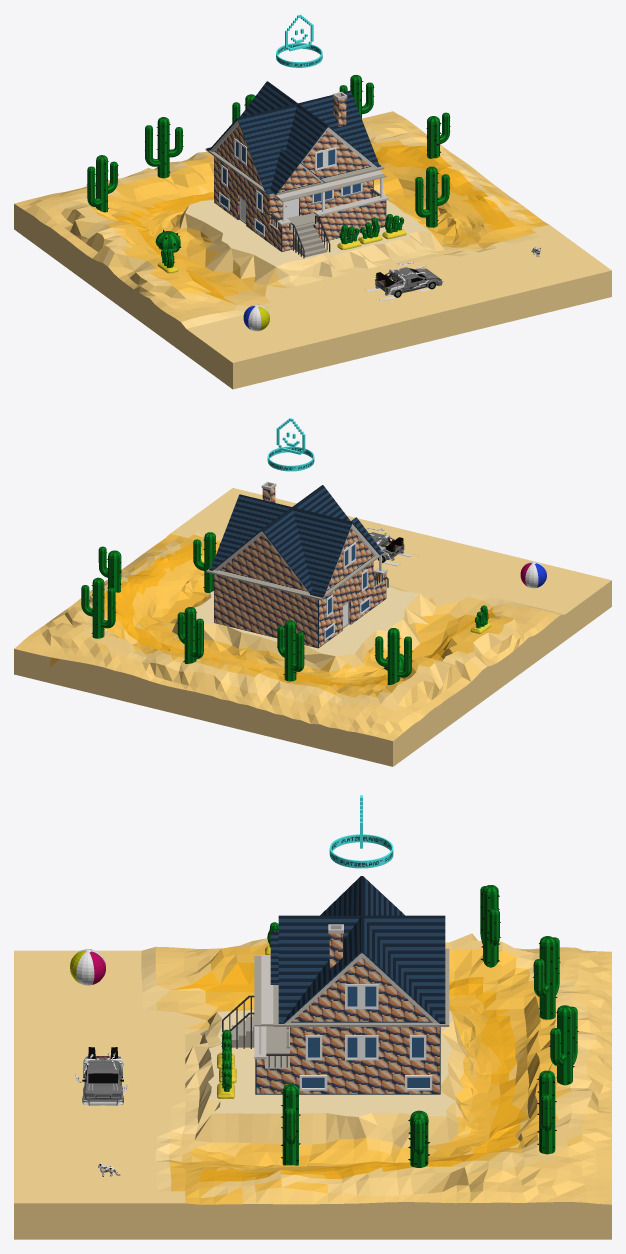
The picture shows the model from 3 angles, top to bottom: view 1: azimuth 30°, elevation 25°; view 2: azimuth 150°, elevation 25°; view 3: azimuth 270°, elevation 25°; orthographic projection. The views are drawn at different scales.
Visible parts, largest first — view 1: Cube.001, Cube.430, VEHICLES_DELOREAN, Cylinder.044, Cylinder.037, Cylinder.045, TYPE_PREMIUM, Cylinder.038, Cylinder.042, OBJRANDOM_BEACHBALL; view 2: Cube.001, Cube.430, Cylinder.042, Cylinder.045, Cylinder.044, Cylinder.043, TYPE_PREMIUM, Cylinder.037, Cylinder.038, VEHICLES_DELOREAN, OBJRANDOM_BEACHBALL; view 3: Cube.001, Cube.430, VEHICLES_DELOREAN, Cylinder.044, Cylinder.043, Cylinder.045, Cylinder.042, Cylinder.037, TYPE_PREMIUM, OBJRANDOM_BEACHBALL, Cylinder.038.
Part boxes in pixels (x1,y1,x2,y2): Cube.001: [14, 111, 611, 389]; Cube.430: [205, 81, 388, 258]; VEHICLES_DELOREAN: [365, 262, 443, 301]; Cylinder.044: [145, 117, 183, 178]; Cylinder.037: [415, 166, 449, 227]; Cylinder.045: [87, 155, 118, 212]; TYPE_PREMIUM: [276, 14, 322, 67]; Cylinder.038: [426, 112, 450, 158]; Cylinder.042: [339, 75, 374, 118]; OBJRANDOM_BEACHBALL: [243, 304, 269, 331]; Cube.001: [14, 488, 611, 766]; Cube.430: [206, 481, 388, 648]; Cylinder.042: [81, 577, 116, 638]; Cylinder.045: [374, 628, 412, 684]; Cylinder.044: [277, 620, 304, 681]; Cylinder.043: [177, 607, 203, 663]; TYPE_PREMIUM: [267, 418, 314, 471]; Cylinder.037: [193, 532, 220, 592]; Cylinder.038: [98, 546, 121, 592]; VEHICLES_DELOREAN: [367, 527, 418, 566]; OBJRANDOM_BEACHBALL: [520, 561, 546, 588]; Cube.001: [14, 933, 611, 1239]; Cube.430: [222, 876, 449, 1094]; VEHICLES_DELOREAN: [74, 1047, 128, 1105]; Cylinder.044: [533, 936, 560, 1019]; Cylinder.043: [549, 1005, 578, 1085]; Cylinder.045: [480, 885, 500, 967]; Cylinder.042: [537, 1070, 556, 1154]; Cylinder.037: [281, 1084, 300, 1165]; TYPE_PREMIUM: [329, 795, 393, 868]; OBJRANDOM_BEACHBALL: [70, 949, 105, 985]; Cylinder.038: [408, 1110, 429, 1167].
Bounding box in the file's own units: 4002 × 2410 × 4001.
38 materials, 4 textured.
